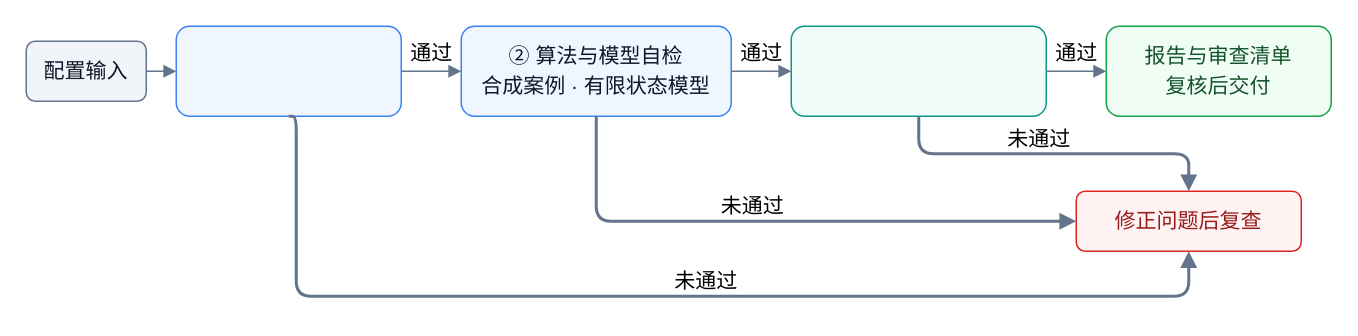
Some shapes in this 1358 by 336 pixel diagram are drawn without their labels. Each missing label, with the centre of its shape:
"① 数值一致性 数字口径与旧结果" goes at (x=288, y=70).
"③ 人工对抗性审查 疑点复核与结论依据" goes at (x=918, y=70).
